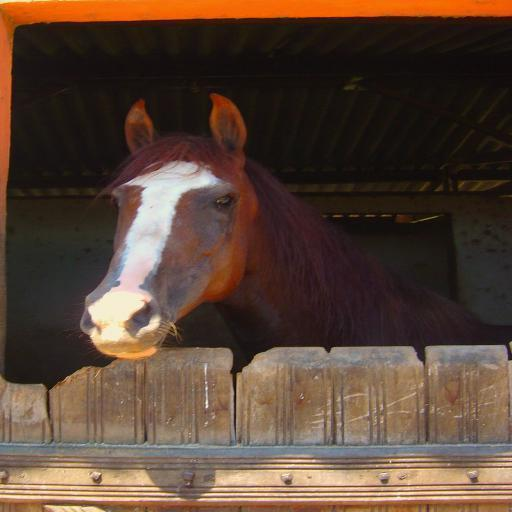horse: (80, 93, 506, 368)
